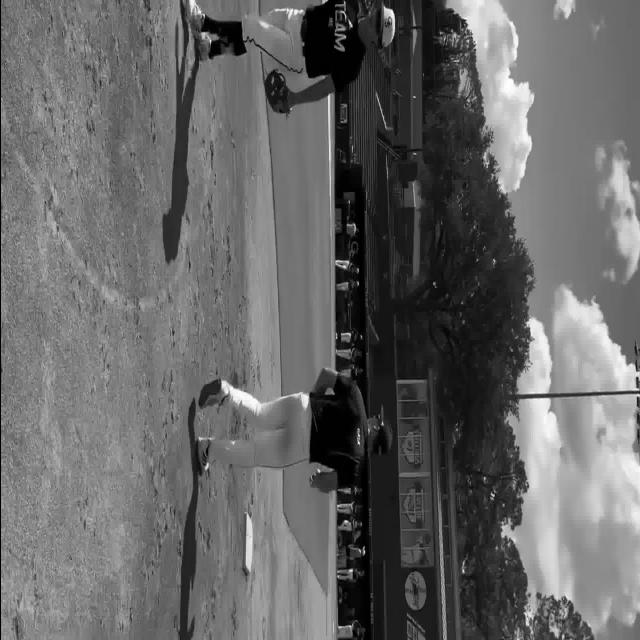base: (241, 513, 252, 576)
baseball_glove: (264, 69, 290, 116)
shoe: (198, 378, 229, 409), (182, 0, 204, 31), (195, 438, 209, 478), (194, 31, 210, 62)
